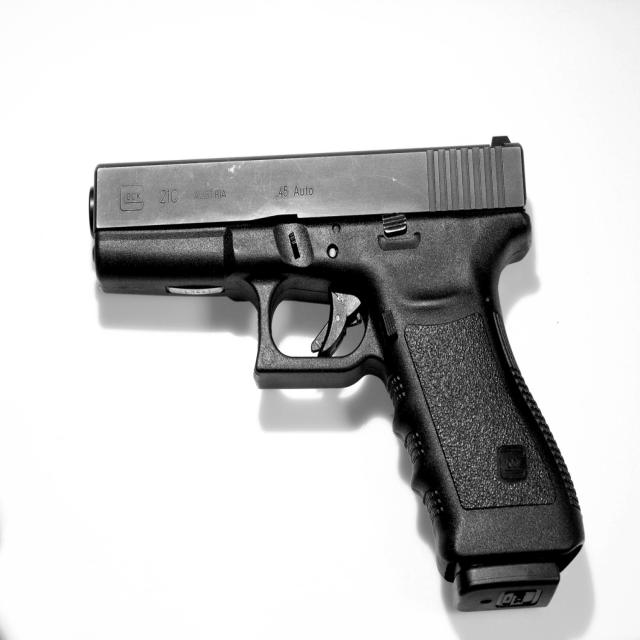Hand-Gun: (86, 136, 593, 582)
